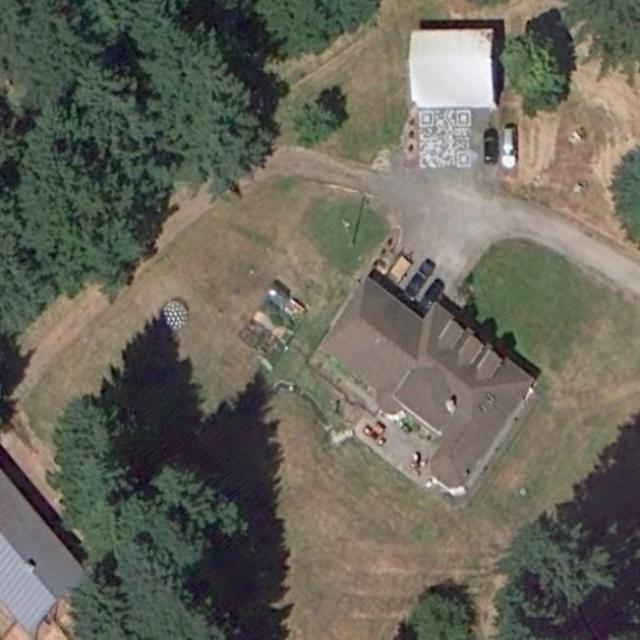qr-code: (420, 109, 471, 168)
